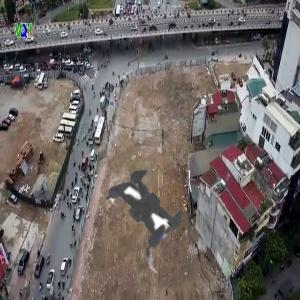drone: (51, 110, 240, 299)
